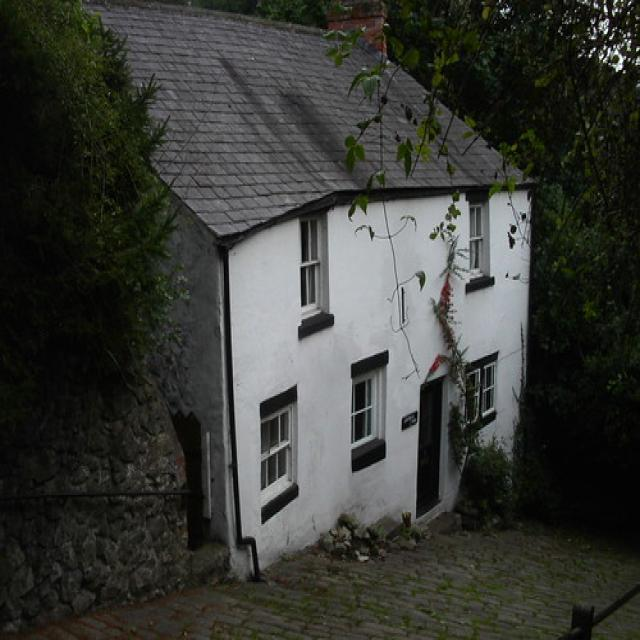building: (15, 1, 544, 576)
